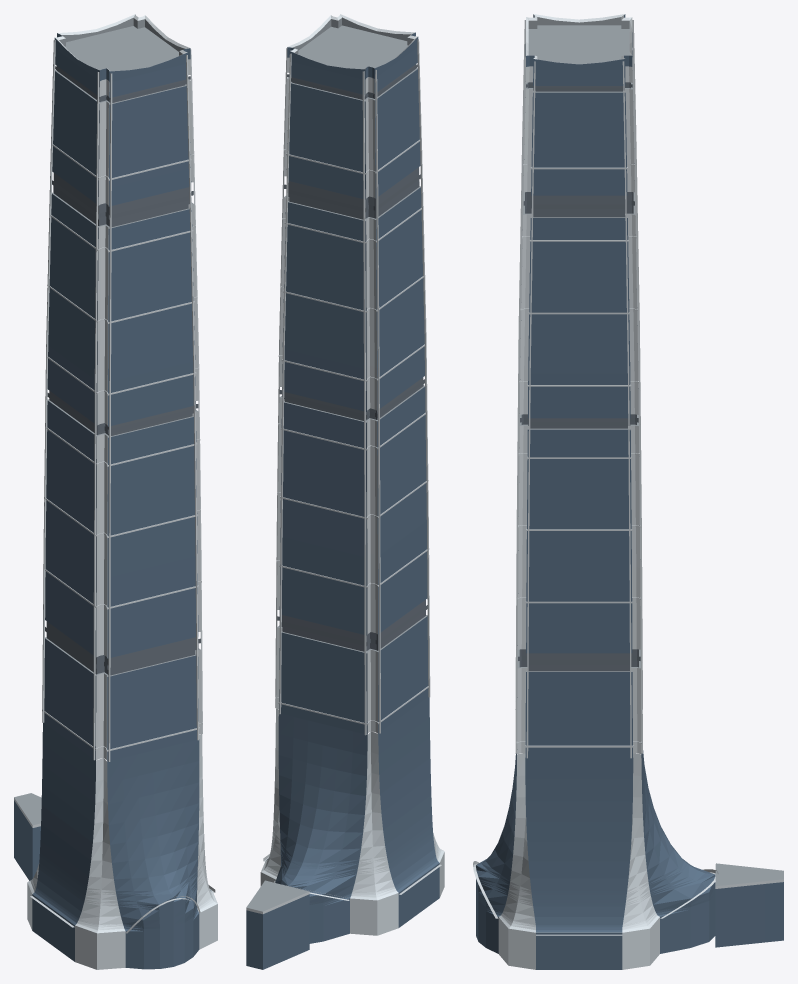
File: hk-international-commerce-centre.glb
3 renders of one model, left to right at view 1: azimuth 30°, elevation 25°; view 2: azimuth 150°, elevation 25°; view 3: azimuth 270°, elevation 25°, orthographic. The views are drawn at different scales.
Visible parts, largest first — view 1: International Commerce Centre; view 2: International Commerce Centre; view 3: International Commerce Centre.
Boxes of the visible parts, x1,y1,x2,y2 form: International Commerce Centre: [14, 14, 217, 969]; International Commerce Centre: [246, 14, 444, 969]; International Commerce Centre: [473, 14, 783, 969].
Bounding box in the file's own units: 81.6 × 484 × 152.
